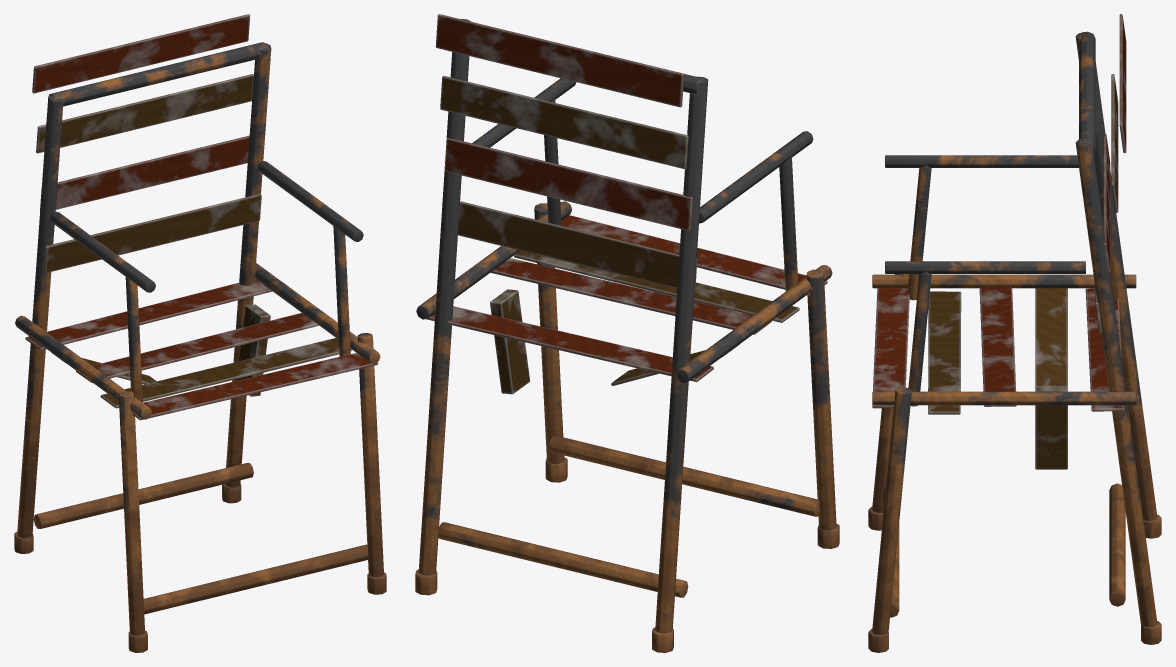
The model's file is chair_folding.glb.
3 views of the same model, side by side, from view 1: azimuth 30°, elevation 25°; view 2: azimuth 150°, elevation 25°; view 3: azimuth 270°, elevation 25° (orthographic). The views are drawn at different scales.
Visible parts, largest first — view 1: chair_folding_WearChairIronFold, chair_folding_WearChairVinylFold; view 2: chair_folding_WearChairVinylFold, chair_folding_WearChairIronFold; view 3: chair_folding_WearChairIronFold, chair_folding_WearChairVinylFold.
Boxes of the visible parts, x1,y1,x2,y2 form: chair_folding_WearChairIronFold: (14,42,386,652); chair_folding_WearChairVinylFold: (25,14,378,420); chair_folding_WearChairVinylFold: (426,14,827,394); chair_folding_WearChairIronFold: (415,19,839,652); chair_folding_WearChairIronFold: (868,31,1161,652); chair_folding_WearChairVinylFold: (872,14,1126,469).
Bounding box in the file's own units: 0.4931 × 0.9111 × 0.4665.
Materials: 2 (2 with a texture image).
